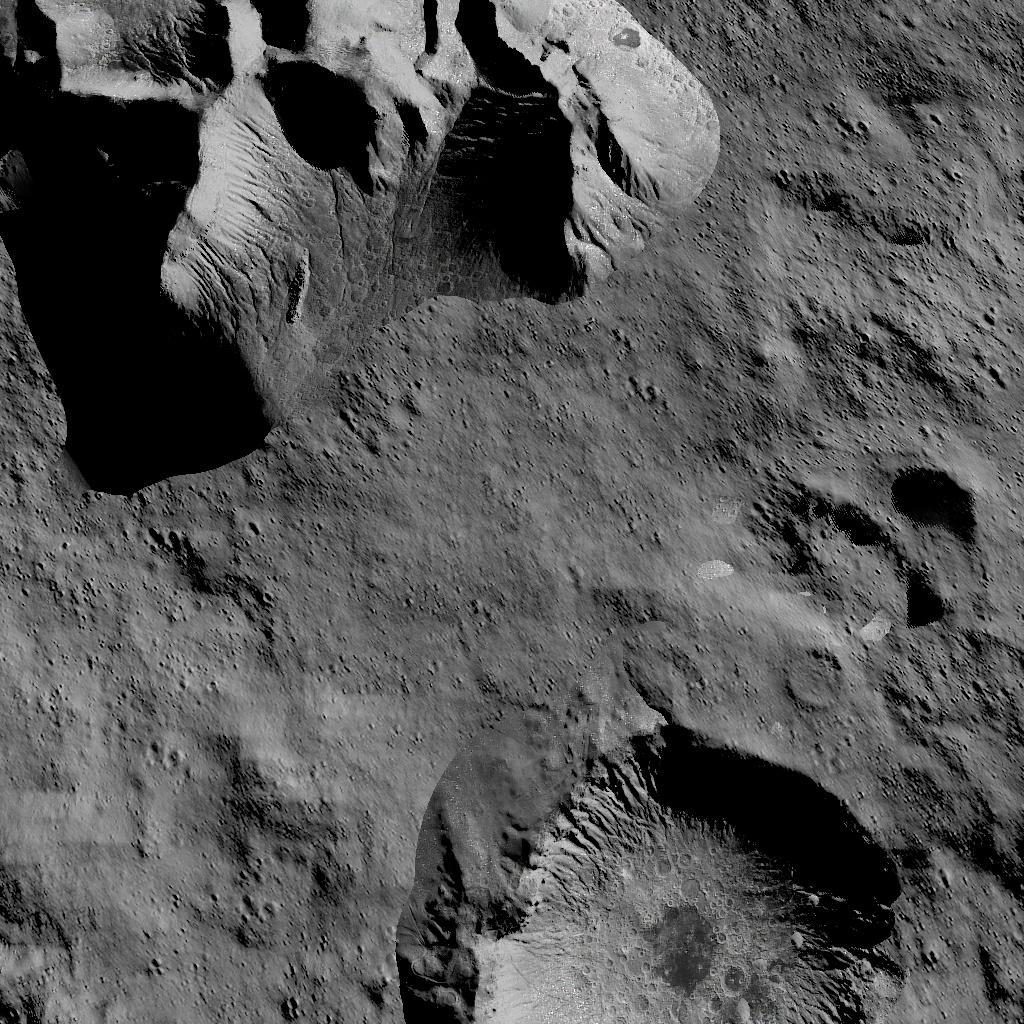Boulders: (0, 0, 728, 487)
Crater: (371, 716, 880, 1024), (769, 462, 981, 628), (764, 644, 846, 706), (965, 808, 1024, 892)
Plan surface: (5, 500, 357, 1024), (755, 4, 1024, 430), (369, 500, 732, 704)
